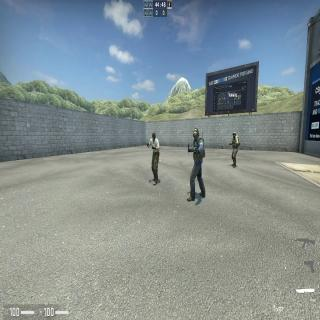CT-Body: (190, 126, 204, 200), (231, 131, 239, 166)
CT-Head: (193, 127, 199, 140), (232, 132, 236, 138)
T-Body: (150, 133, 160, 184)
T-Head: (152, 133, 156, 140)
